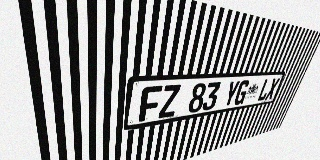3: (201, 82, 221, 111)
8: (187, 83, 208, 113)
F: (139, 85, 163, 122)
G: (233, 80, 251, 106)
L: (256, 78, 273, 101)
X: (264, 78, 280, 100)
Y: (222, 80, 241, 107)
Z: (158, 84, 181, 119)
